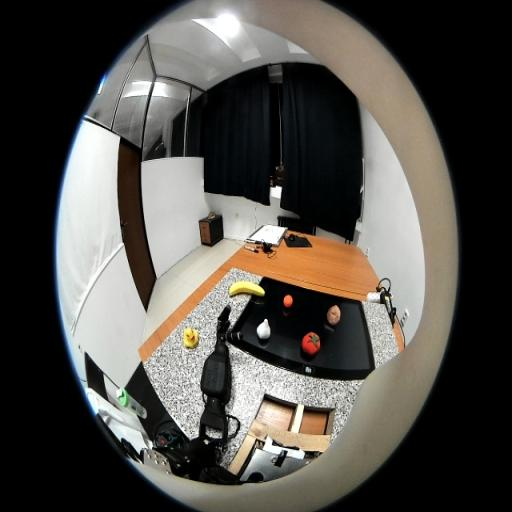Banana: (229, 280, 265, 297)
Duck: (184, 328, 199, 349)
LeftHand: (217, 322, 226, 343)
Mushroom: (326, 305, 341, 325)
Onion: (256, 318, 270, 340)
Orange: (283, 294, 293, 308)
Tomato: (301, 332, 321, 356)
